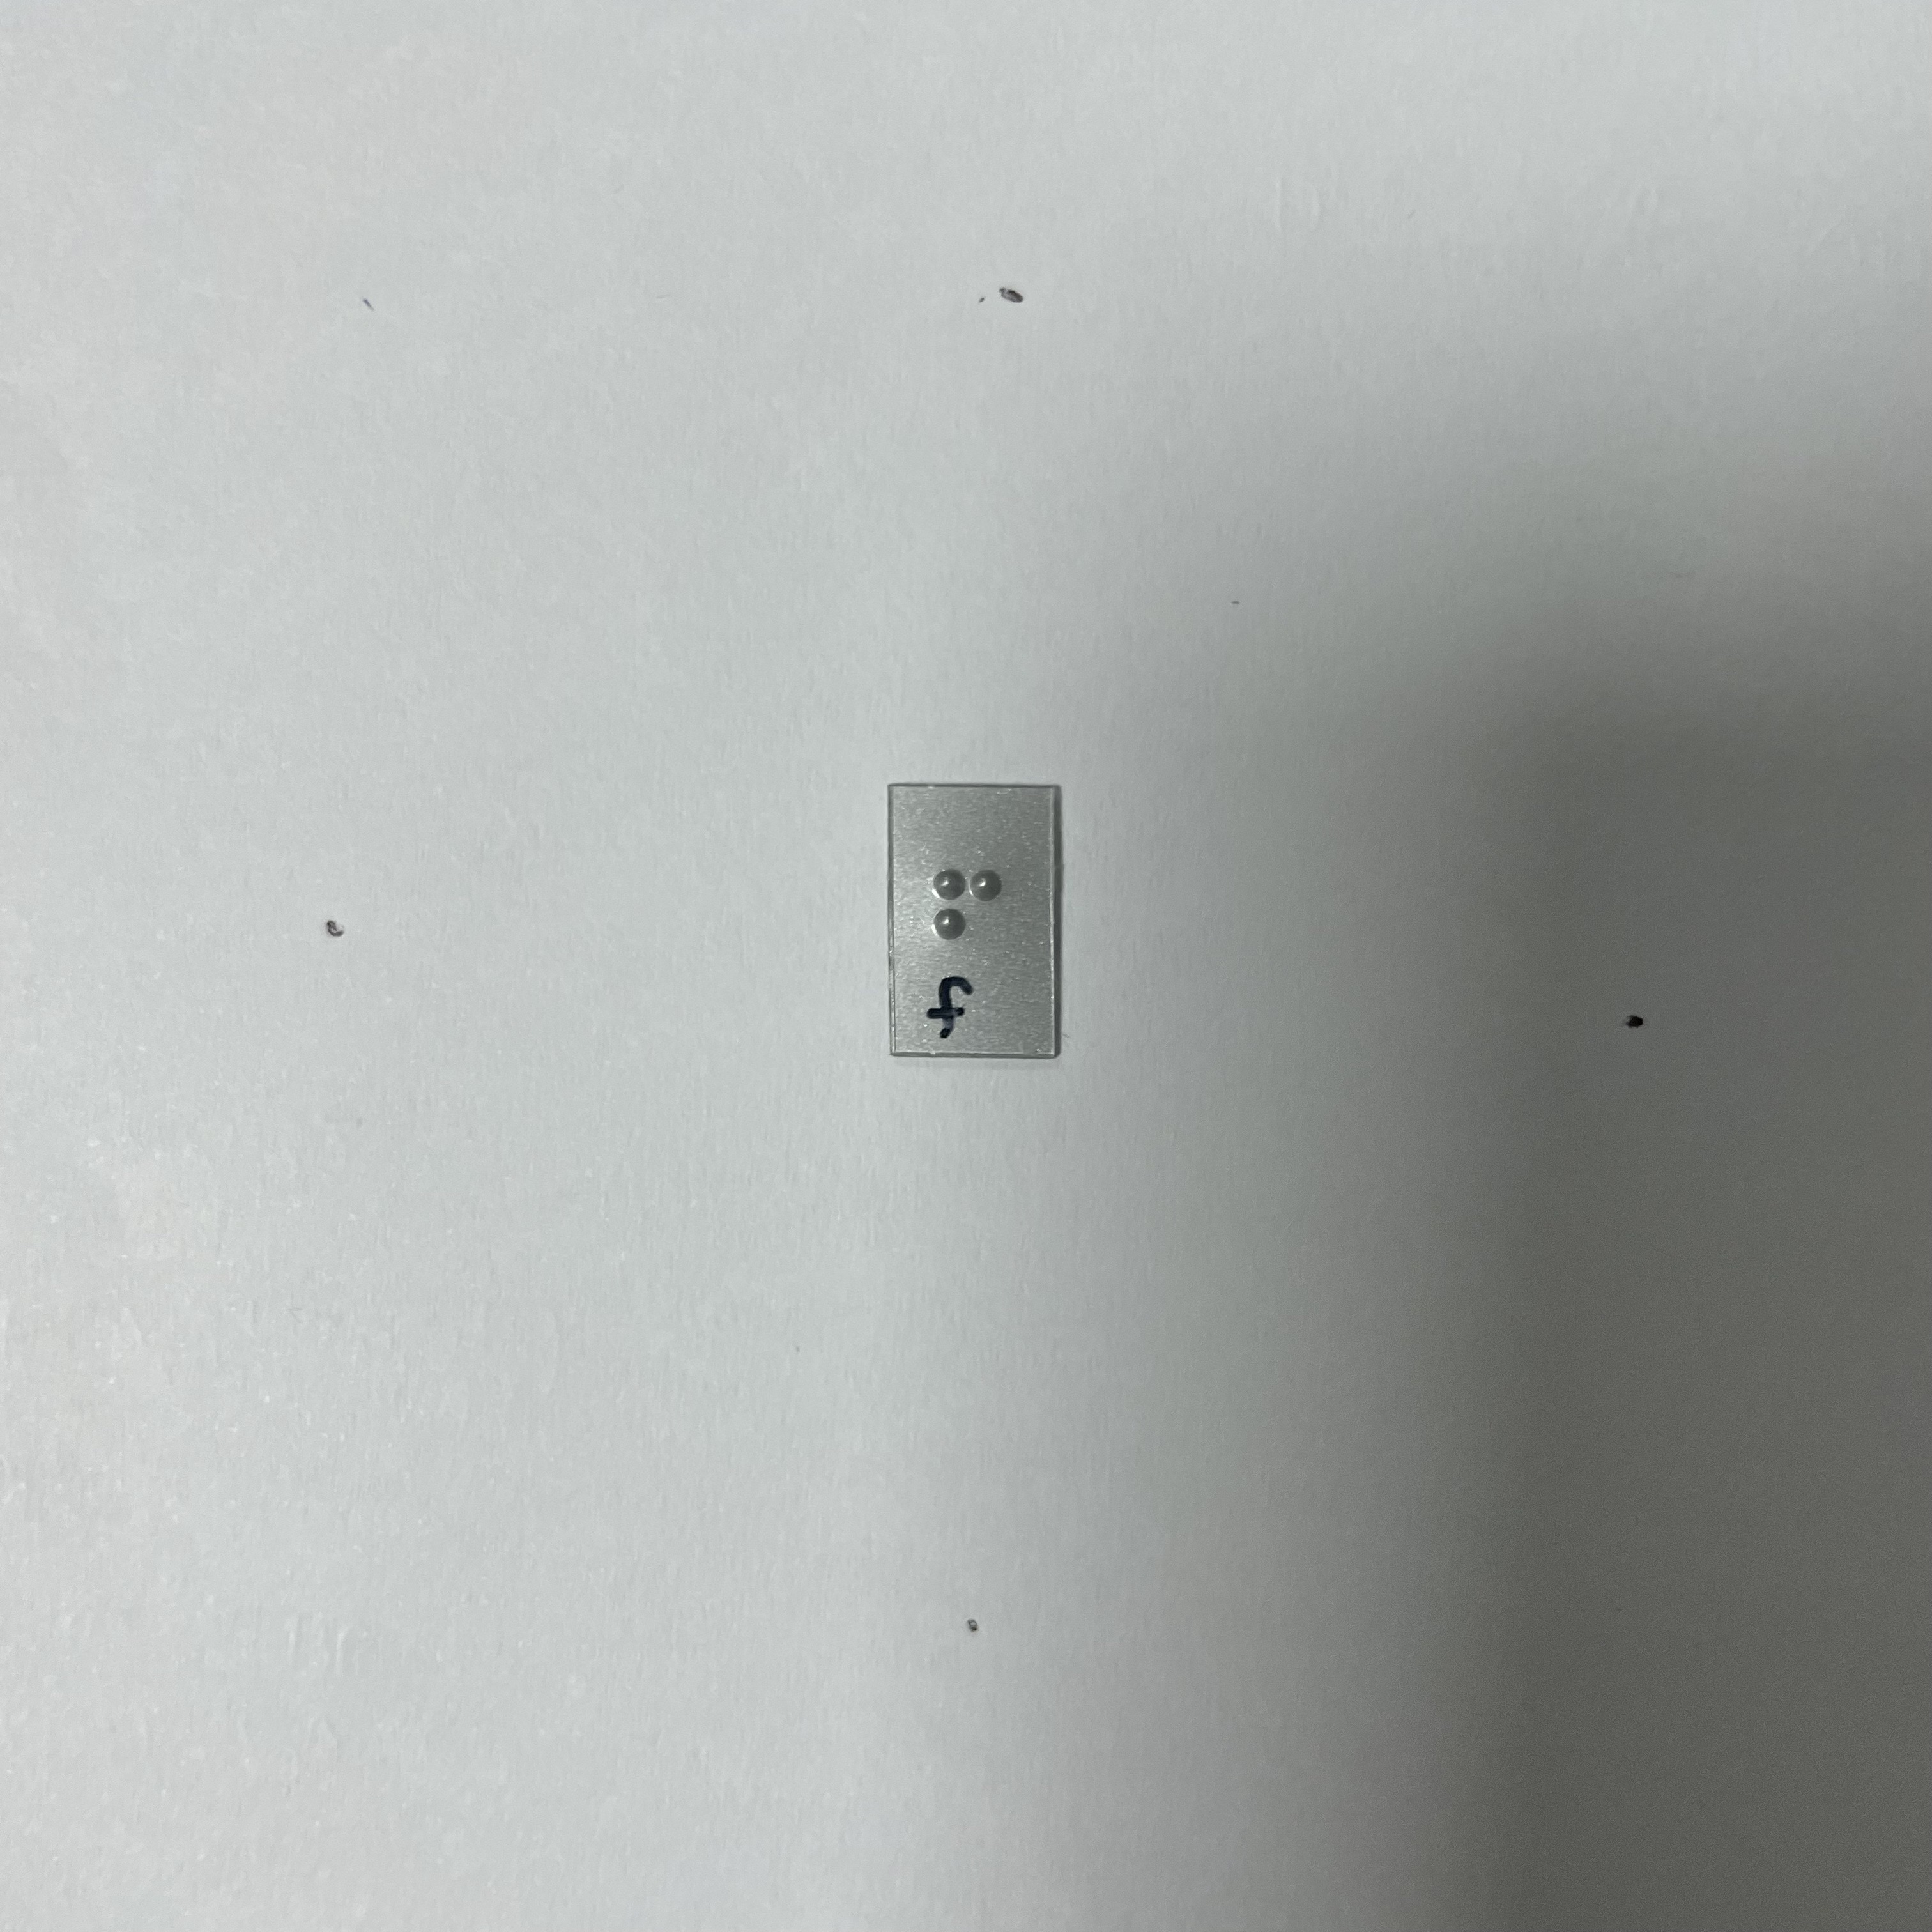f: (914, 845, 1015, 985)
